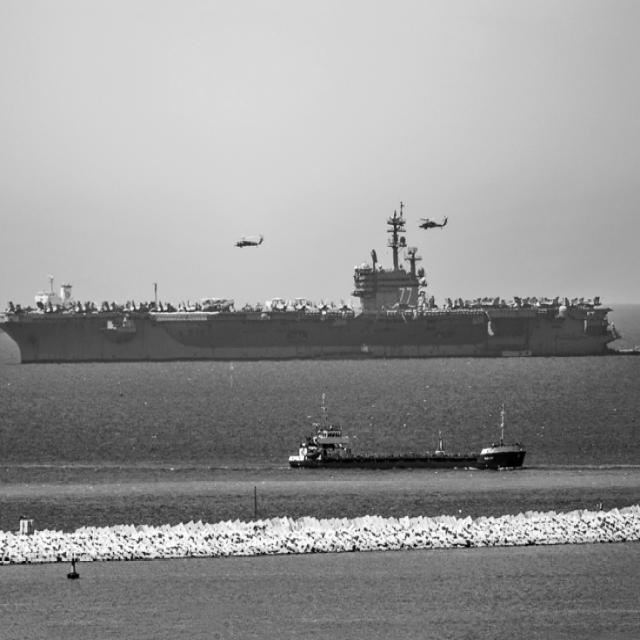Portanaves: (1, 201, 629, 371)
